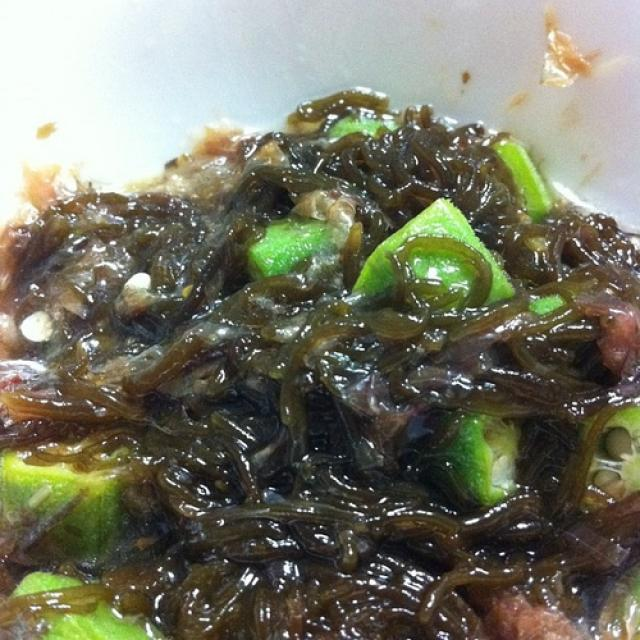蔬菜料理: (18, 21, 613, 618)
